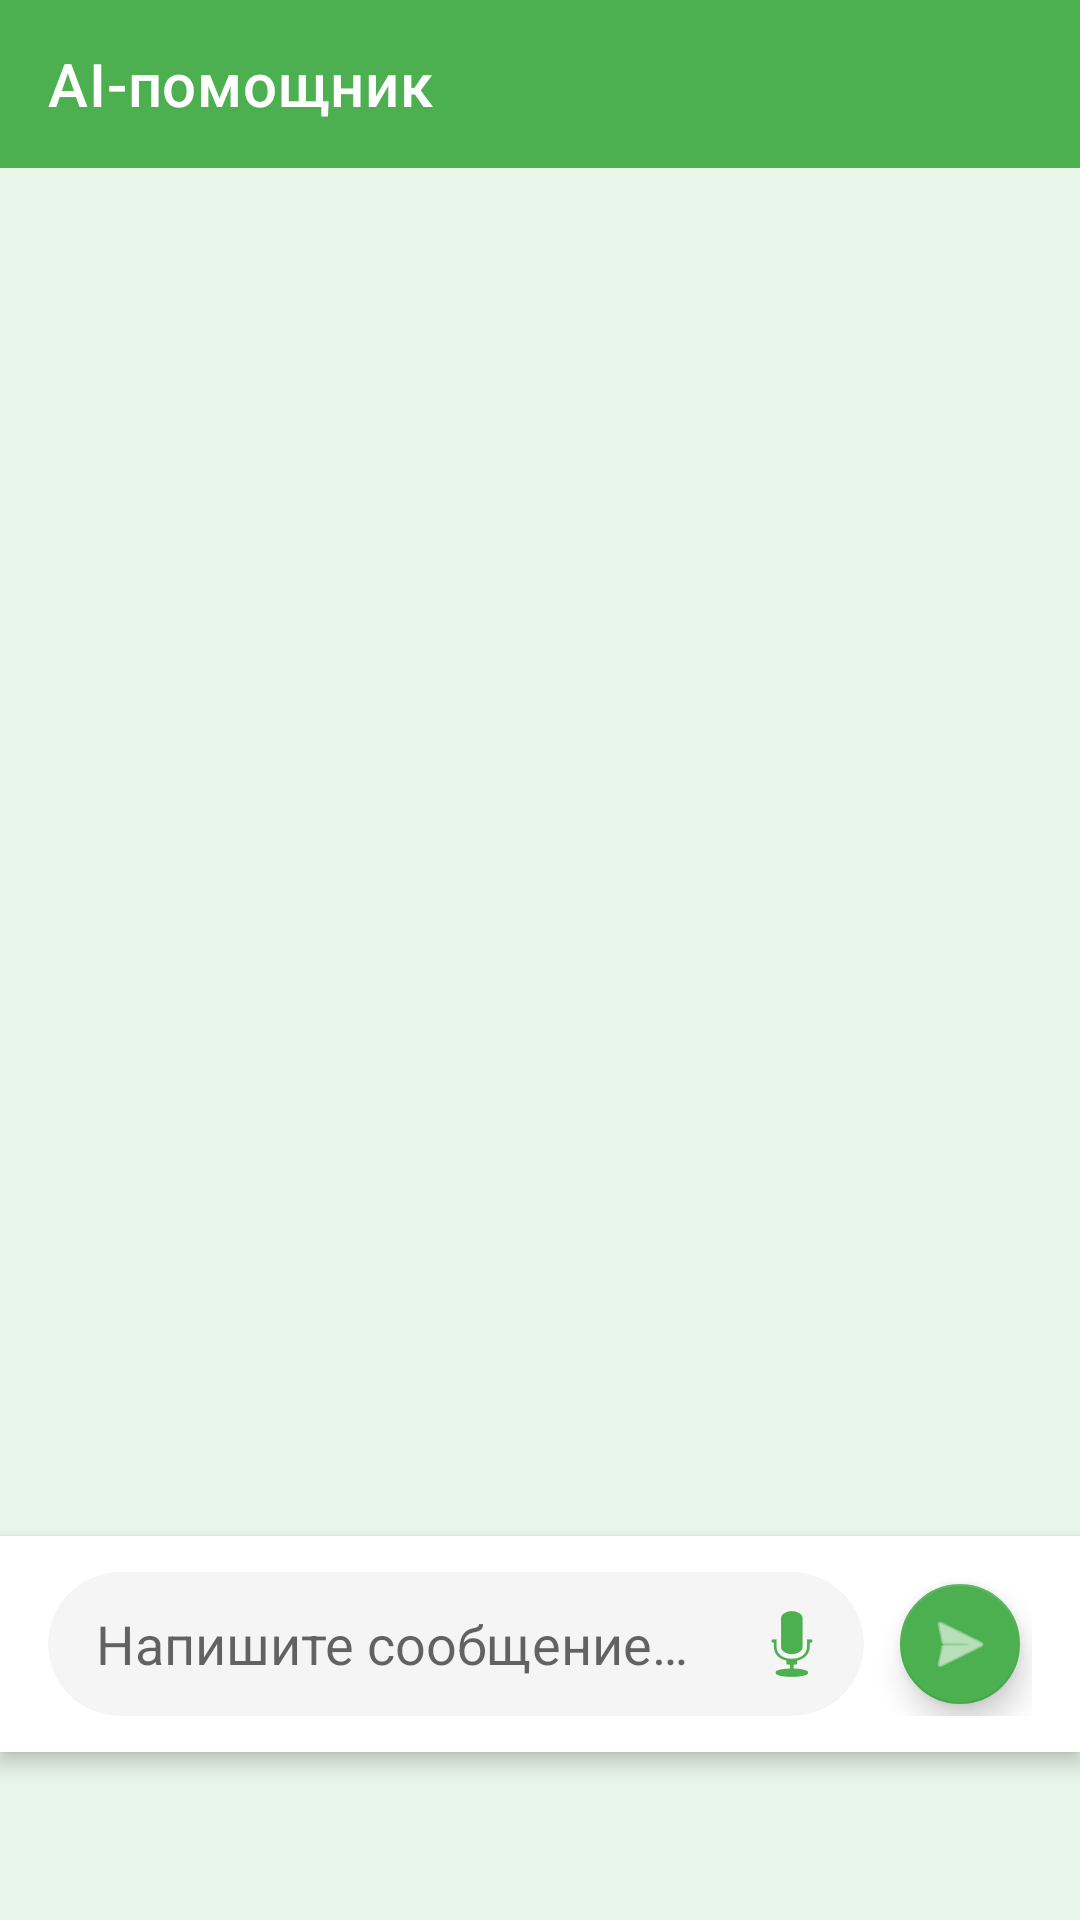

Point at icon controls on the screen. Image size 1080 × 1920, points as (x=x, y=y).
Отправить сообщение: (x=961, y=1650)
